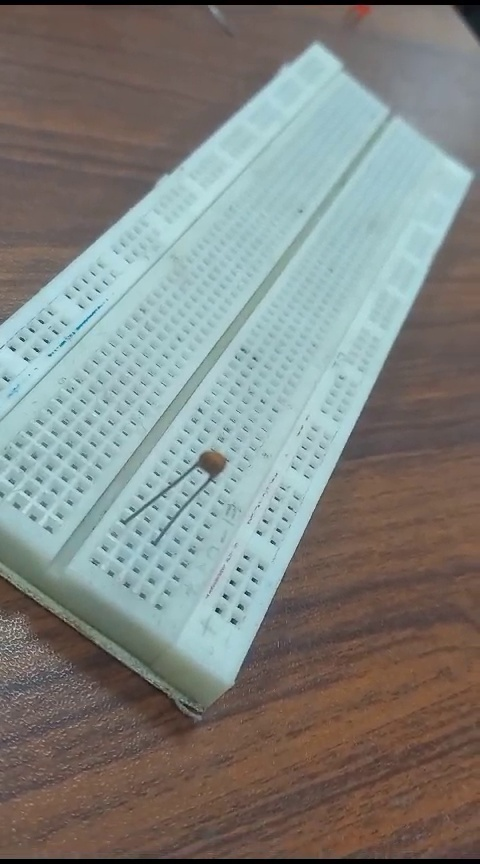ceramic capacitor: (126, 420, 232, 551)
